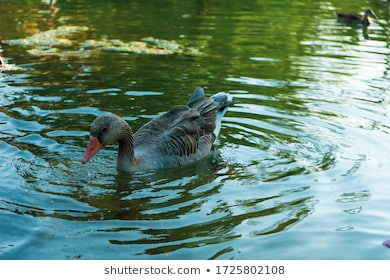duck: (76, 73, 236, 194)
